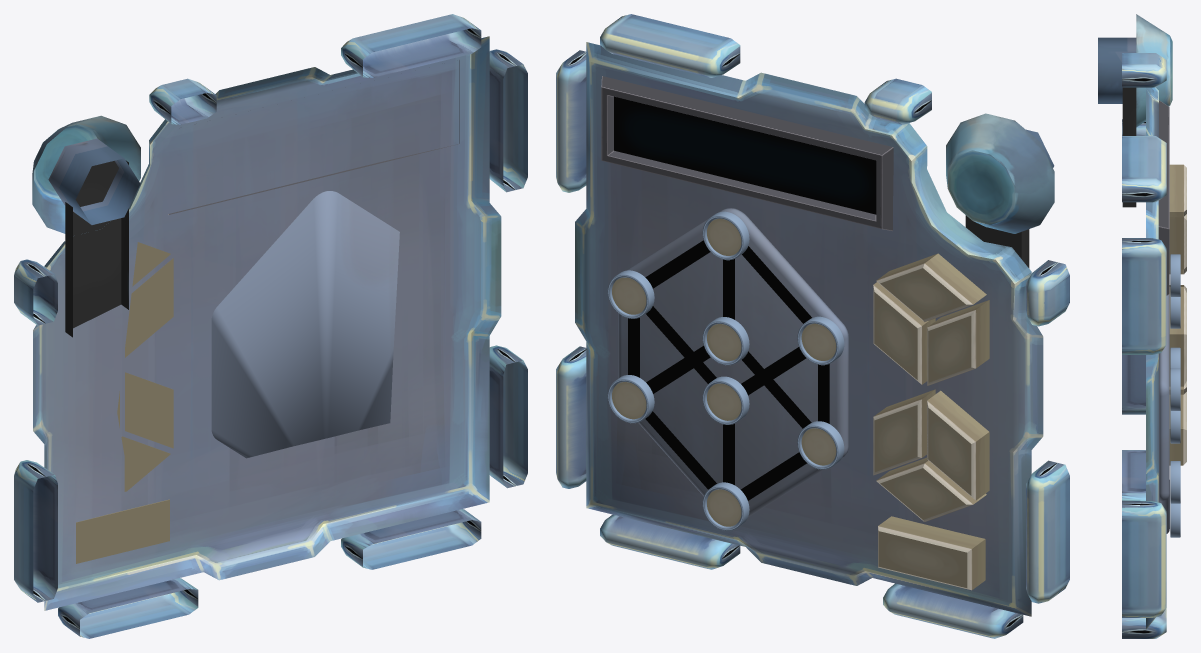
Rendered from module.fbx.
3 renders of one model, left to right at view 1: azimuth 30°, elevation 25°; view 2: azimuth 150°, elevation 25°; view 3: azimuth 270°, elevation 25°, orthographic. The views are drawn at different scales.
Visible parts, largest first — view 1: PuzzleBackground, GuidePlateBack, SubmitButton, FaceB, FaceL, FaceD, FaceU; view 2: PuzzleBackground, GuidePlateBack, DisplayScreen, DisplayCase, GuidePlateLines, SubmitButton, FaceR, FaceU, FaceF, FaceL, FaceB, FaceD (+16 smaller); view 3: PuzzleBackground, GuidePlateBack, DisplayCase, FaceB, FaceU, FaceL, SubmitButton, Case0, Case1, Case4, Case7, Case5 (+2 smaller).
Part boxes in pixels (left/top/right/bottom): PuzzleBackground: left=14, top=14, right=527, bottom=638; GuidePlateBack: left=211, top=191, right=399, bottom=458; SubmitButton: left=76, top=499, right=169, bottom=563; FaceB: left=125, top=372, right=173, bottom=448; FaceL: left=125, top=258, right=173, bottom=357; FaceD: left=121, top=436, right=170, bottom=491; FaceU: left=132, top=242, right=170, bottom=286; PuzzleBackground: left=556, top=14, right=1069, bottom=638; GuidePlateBack: left=618, top=208, right=848, bottom=517; DisplayScreen: left=614, top=96, right=876, bottom=214; DisplayCase: left=601, top=76, right=893, bottom=230; GuidePlateLines: left=628, top=240, right=829, bottom=500; SubmitButton: left=878, top=516, right=985, bottom=590; FaceR: left=927, top=390, right=989, bottom=500; FaceU: left=876, top=253, right=986, bottom=321; FaceF: left=927, top=300, right=989, bottom=385; FaceL: left=873, top=282, right=935, bottom=384; FaceB: left=873, top=389, right=935, bottom=475; FaceD: left=876, top=457, right=986, bottom=521; PuzzleBackground: left=1098, top=14, right=1172, bottom=638; GuidePlateBack: left=1159, top=294, right=1169, bottom=533; DisplayCase: left=1158, top=100, right=1169, bottom=295; FaceB: left=1169, top=287, right=1186, bottom=386; FaceU: left=1169, top=164, right=1186, bottom=216; FaceL: left=1169, top=217, right=1186, bottom=274; SubmitButton: left=1169, top=392, right=1186, bottom=465; Case0: left=1170, top=254, right=1180, bottom=296; Case1: left=1170, top=368, right=1180, bottom=410; Case4: left=1170, top=461, right=1180, bottom=503; Case7: left=1170, top=503, right=1180, bottom=537; Case5: left=1170, top=411, right=1180, bottom=443.
Size of the model in its own units: 2000 by 2000 by 350.
